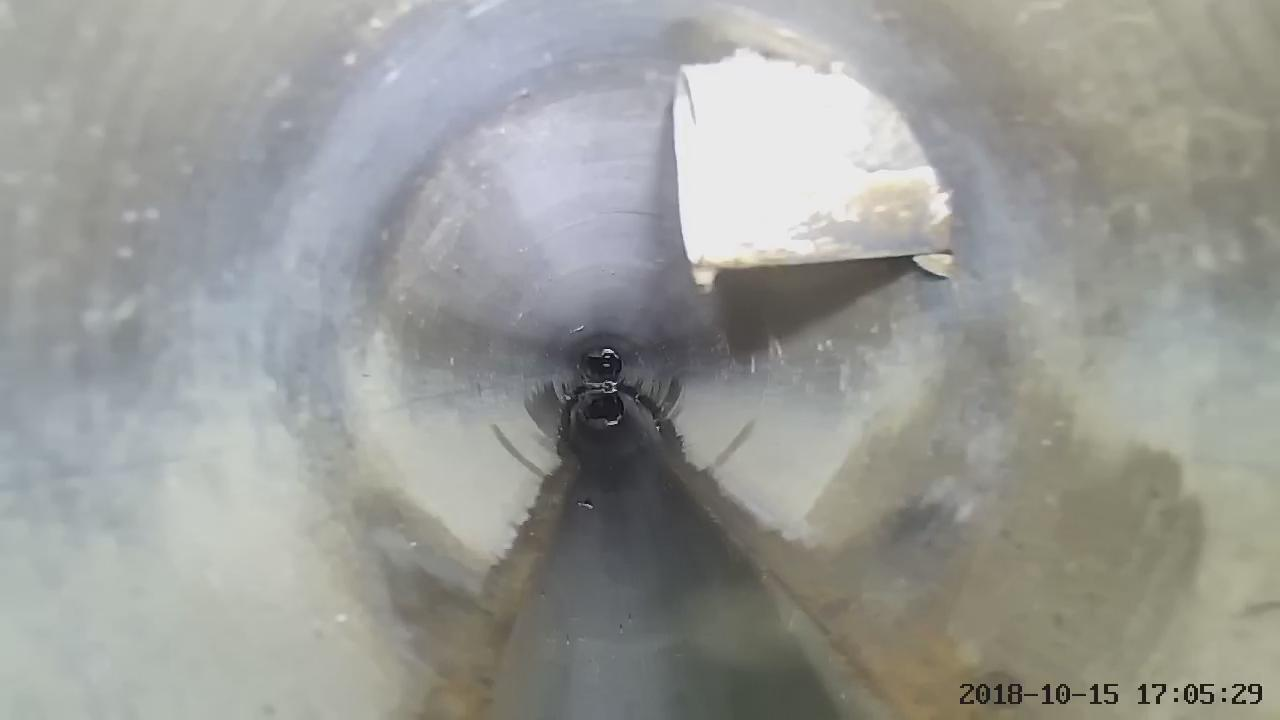ZGAJ: (672, 49, 952, 288)
